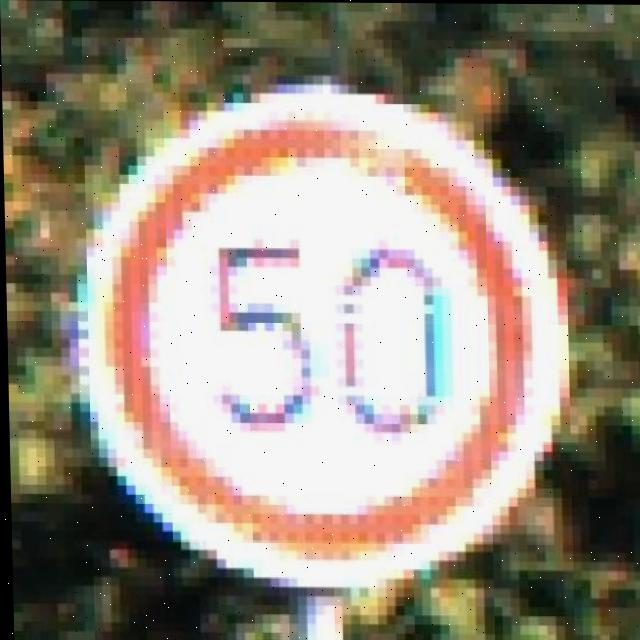Speed limit 50: (78, 86, 574, 589)
